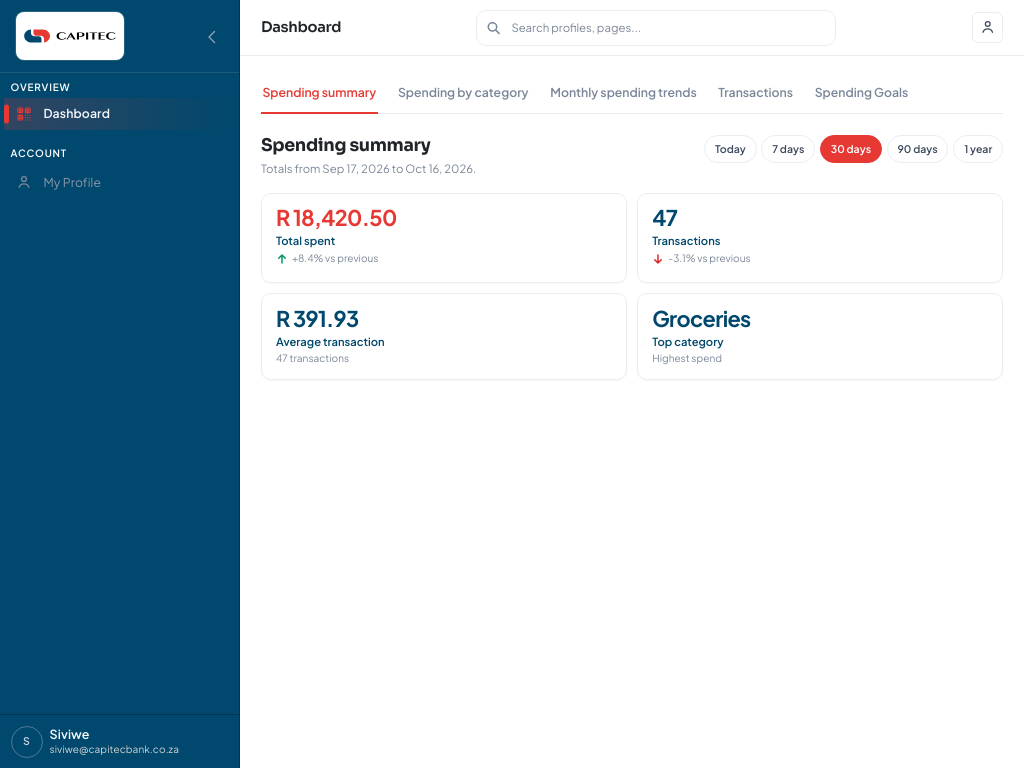
Scenario: profile › closes the account menu with Escape
Click the button named "Account" at (987, 27), box x1=972 y1=12 x2=1003 y2=43
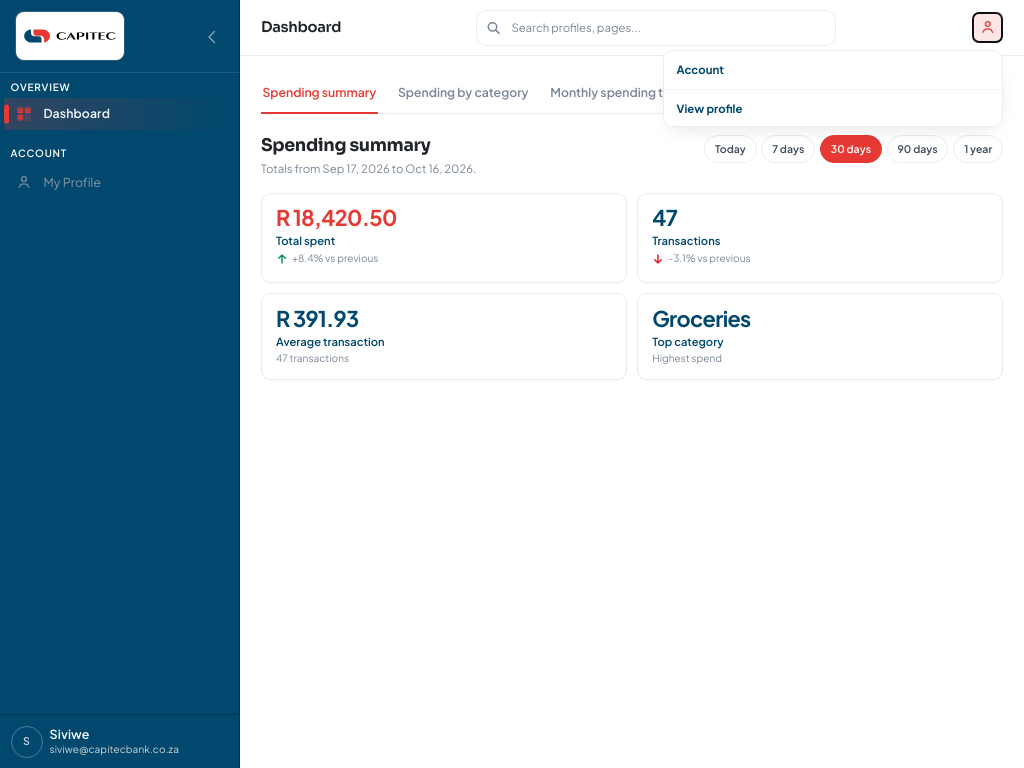
Press Escape
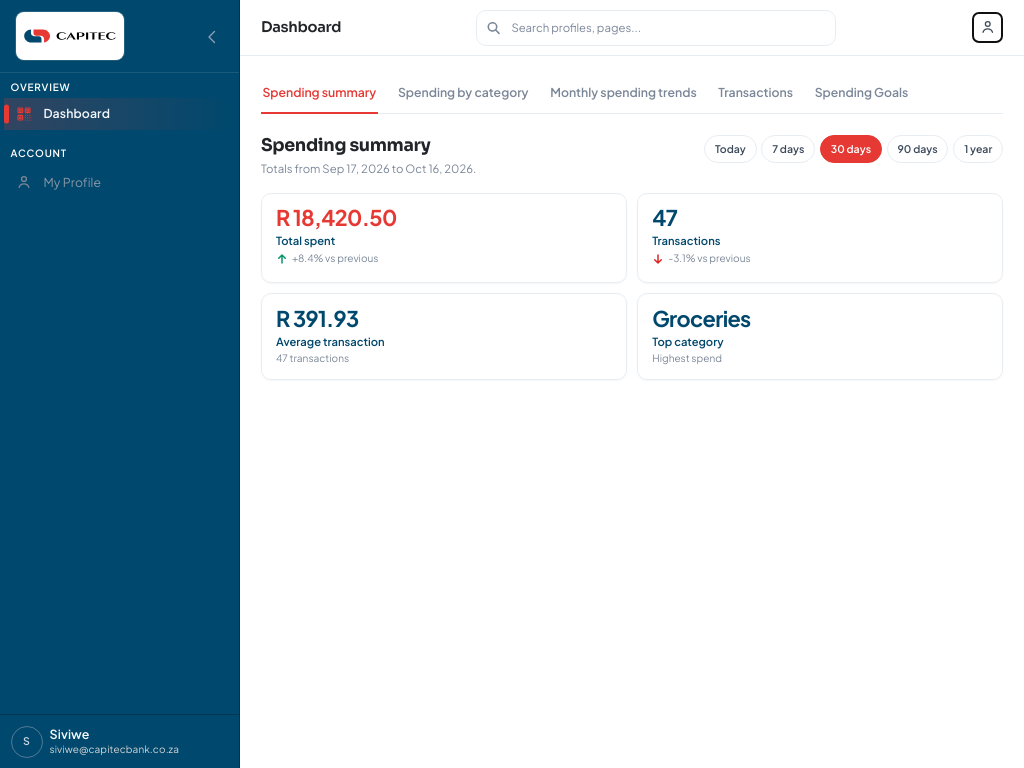
Expected: the heading "Spending summary" is shown, x1=261 y1=134 x2=430 y2=156
Now the menu is gone
